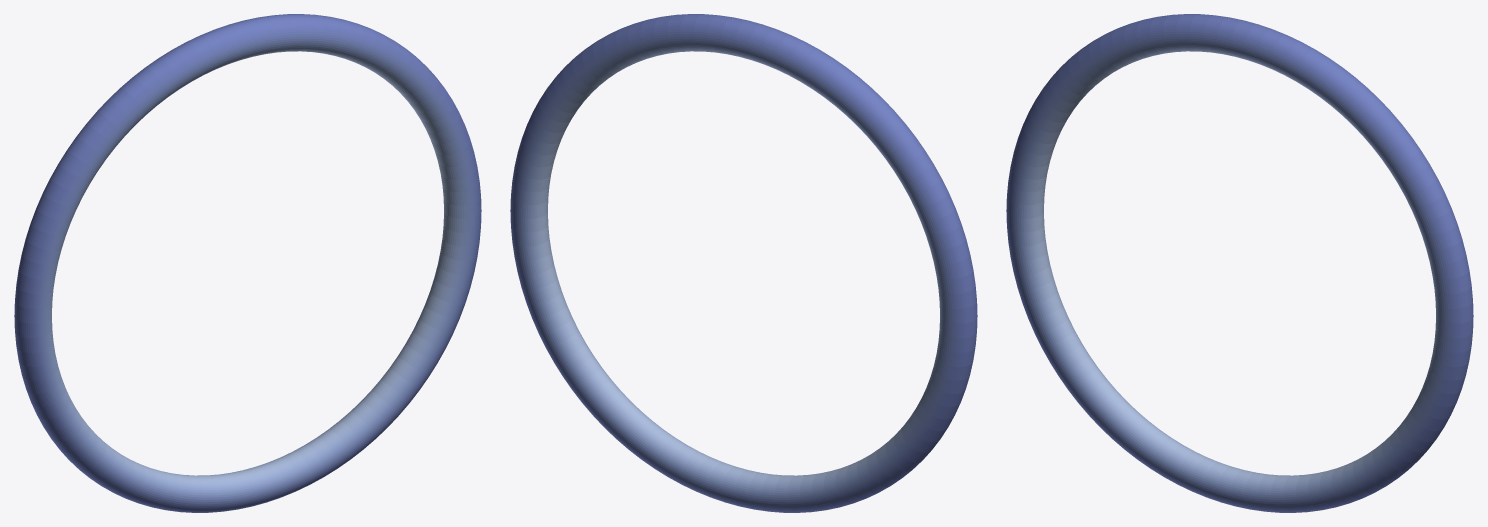
3 renders of one model, left to right at view 1: azimuth 30°, elevation 25°; view 2: azimuth 150°, elevation 25°; view 3: azimuth 330°, elevation 25°, orthographic.
Visible parts, largest first — view 1: world; view 2: world; view 3: world.
Part boxes in pixels (x1,y1,x2,y2): world: [14, 14, 481, 512]; world: [510, 14, 977, 512]; world: [1006, 14, 1473, 512].
Bounding box in the file's own units: 32.27 × 32.27 × 2.26.
